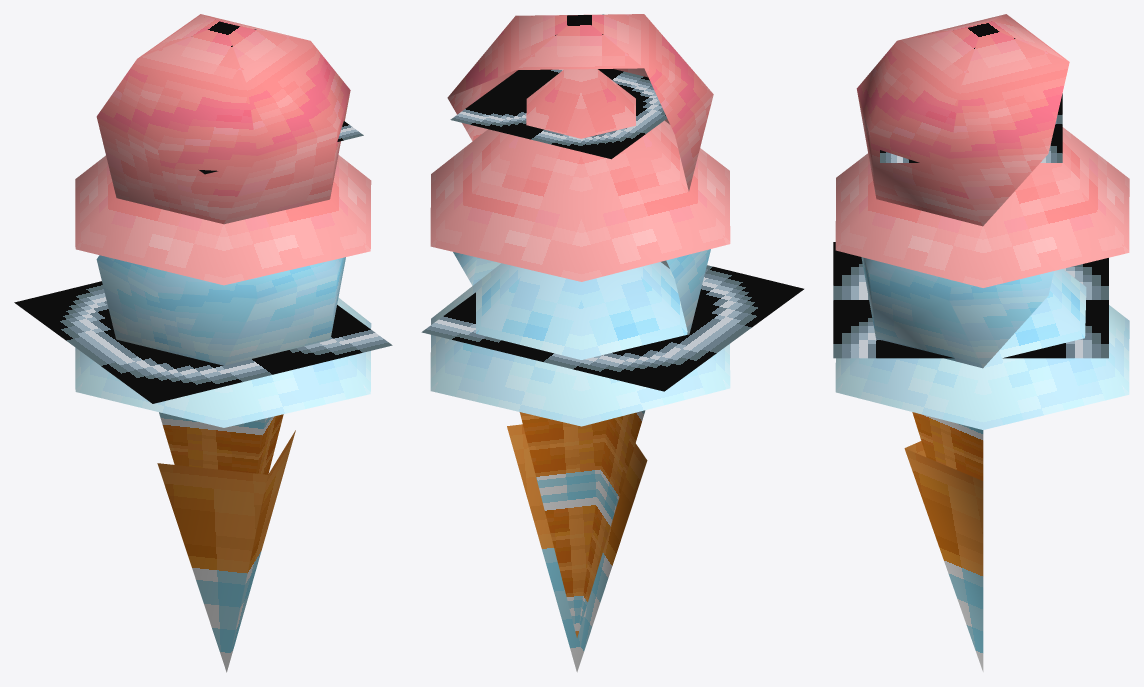
The picture shows the model from 3 angles, left to right: view 1: azimuth 30°, elevation 25°; view 2: azimuth 150°, elevation 25°; view 3: azimuth 270°, elevation 25°; orthographic projection.
Parts seen in each view (by area): view 1: 5608u_ice00_hs; view 2: 5608u_ice00_hs; view 3: 5608u_ice00_hs.
Part boxes in pixels (left/top/right/bottom): 5608u_ice00_hs: left=14, top=14, right=392, bottom=672; 5608u_ice00_hs: left=421, top=14, right=803, bottom=672; 5608u_ice00_hs: left=833, top=14, right=1129, bottom=671.
Size of the model in its own units: 0.4375 by 0.9199 by 0.3818.
Materials: 6 (6 with a texture image).
